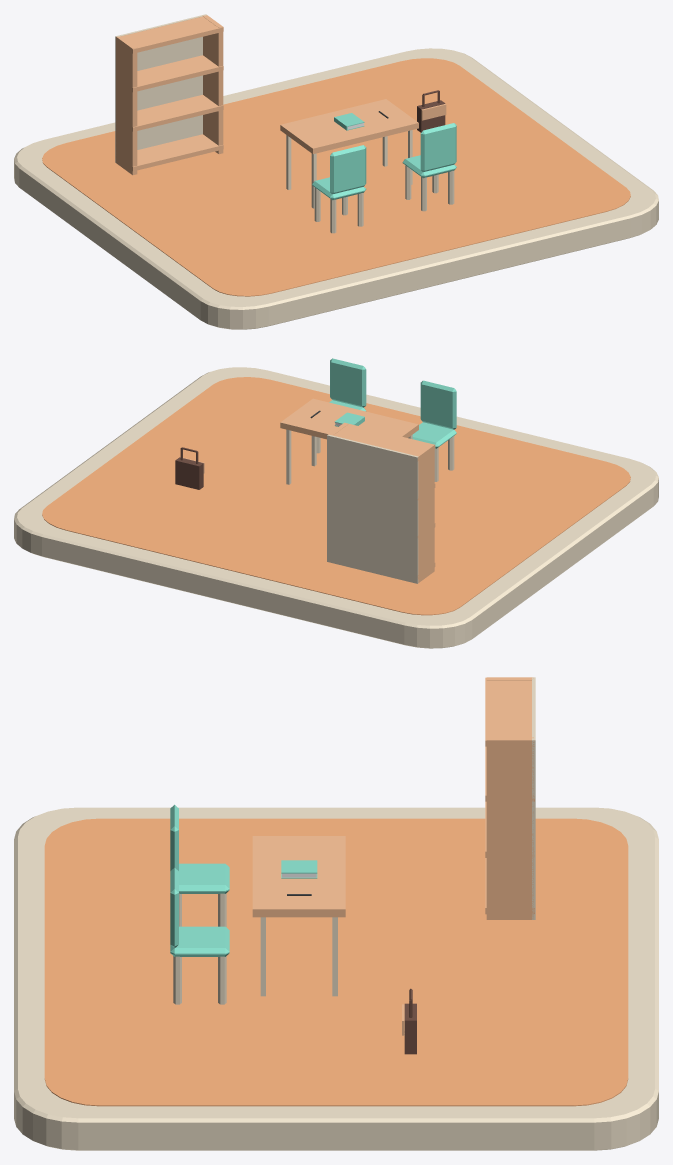
The picture shows the model from 3 angles, top to bottom: view 1: azimuth 30°, elevation 25°; view 2: azimuth 150°, elevation 25°; view 3: azimuth 270°, elevation 25°; orthographic projection. The views are drawn at different scales.
Visible parts, largest first — view 1: COM-02 Floor Surface, COM-01 Rounded Base Direct, Top, Back, Side, Side.001, Shelf.003, Shelf, Shelf.002, Shelf.001, Backrest, Backrest.001 (+3 smaller); view 2: COM-02 Floor Surface, COM-01 Rounded Base Direct, Back, Top, Side, Backrest, Backrest.001, Shelf.003, Bag, Seat; view 3: COM-02 Floor Surface, COM-01 Rounded Base Direct, Top, Side.001, Shelf.003, Seat.001, Seat, Back, Bag, Backrest.001.
Part boxes in pixels (bbox=[...]): COM-02 Floor Surface: bbox=[42, 58, 630, 296]; COM-01 Rounded Base Direct: bbox=[14, 48, 658, 329]; Top: bbox=[280, 99, 418, 208]; Back: bbox=[115, 14, 206, 162]; Side: bbox=[116, 36, 137, 175]; Side.001: bbox=[202, 15, 223, 154]; Shelf.003: bbox=[122, 16, 223, 53]; Shelf: bbox=[119, 134, 223, 171]; Shelf.002: bbox=[124, 55, 223, 92]; Shelf.001: bbox=[124, 94, 223, 131]; Backrest: bbox=[330, 145, 366, 194]; Backrest.001: bbox=[420, 123, 456, 172]; COM-02 Floor Surface: bbox=[42, 377, 630, 615]; COM-01 Rounded Base Direct: bbox=[14, 367, 658, 648]; Back: bbox=[327, 434, 418, 583]; Top: bbox=[280, 398, 418, 484]; Side: bbox=[414, 444, 434, 582]; Backrest: bbox=[420, 380, 456, 429]; Backrest.001: bbox=[330, 358, 366, 407]; Shelf.003: bbox=[333, 422, 435, 461]; Bag: bbox=[175, 447, 204, 489]; Seat: bbox=[412, 422, 456, 448]; COM-02 Floor Surface: bbox=[44, 818, 628, 1106]; COM-01 Rounded Base Direct: bbox=[14, 807, 658, 1150]; Top: bbox=[252, 836, 345, 996]; Side.001: bbox=[486, 737, 533, 919]; Shelf.003: bbox=[485, 677, 534, 746]; Seat.001: bbox=[170, 926, 229, 956]; Seat: bbox=[179, 863, 229, 893]; Back: bbox=[532, 677, 535, 919]; Bag: bbox=[402, 988, 416, 1054]; Backrest.001: bbox=[170, 867, 178, 948].
Size of the model in its own units: 6 by 1.9 by 5.2.
Materials: 1 (1 with a texture image).
